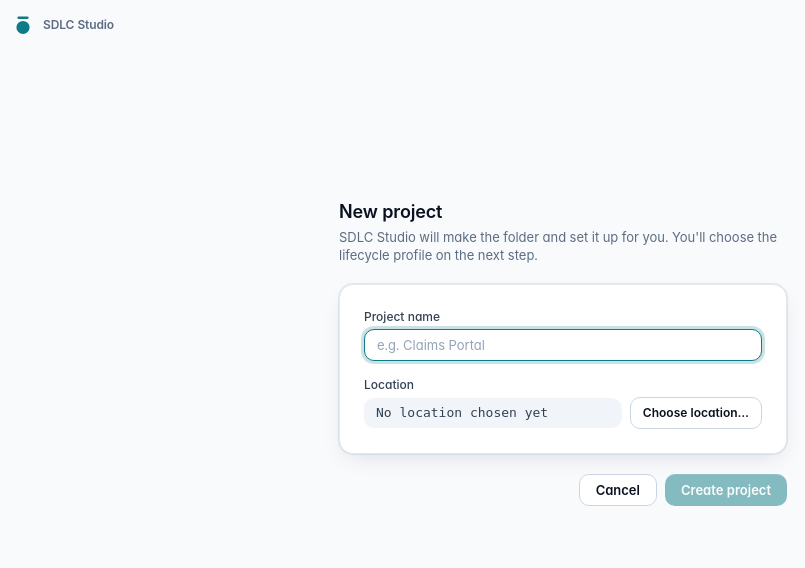
Test: NewProjectScreen › shows the reason a project could not be created and lets the person fix it and try again
The image size is (805, 568).
Click the button "Choose location…" at (696, 413), box [630,397,762,429]
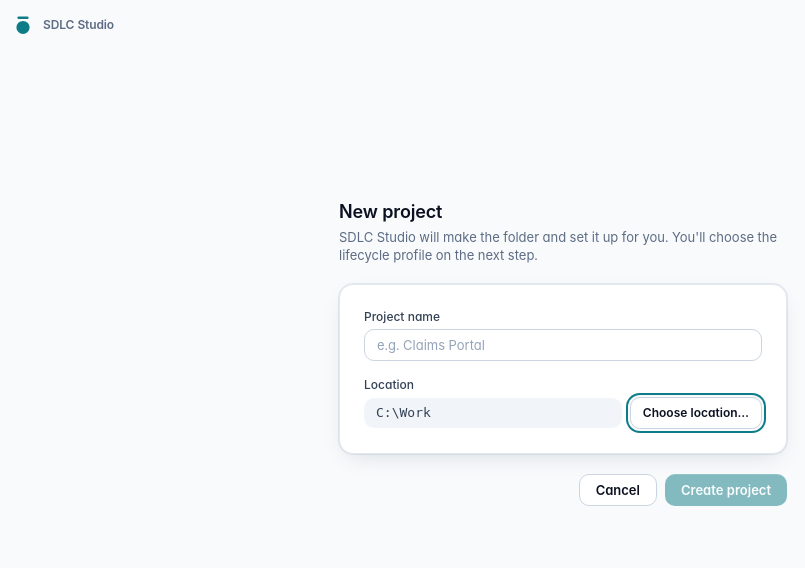
Type "X" into the field labelled "Project name" at (563, 345), box [364,329,762,361]
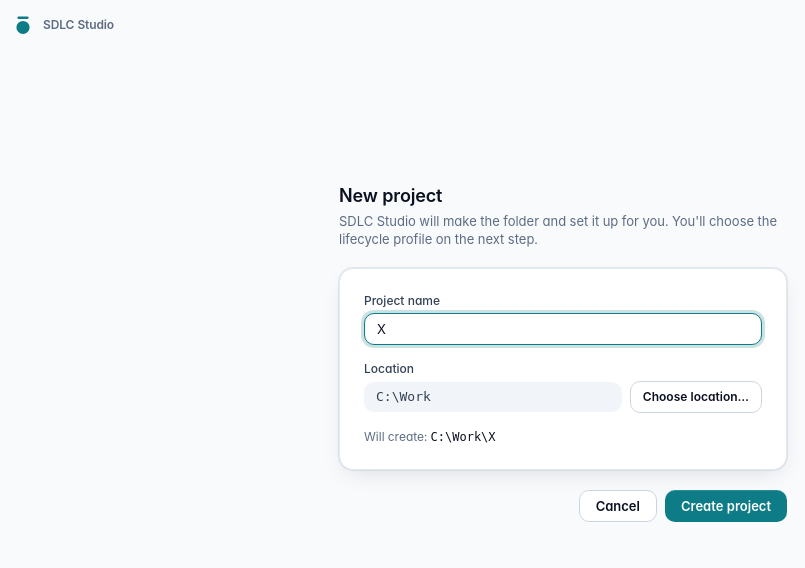
Click the button "Create project" at (726, 506), box [665,490,787,522]
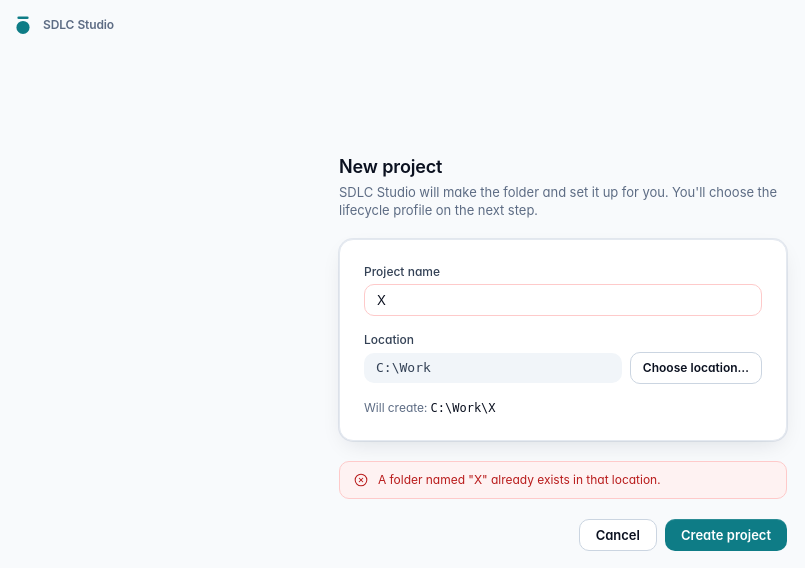
Expected: the button "Create project" is enabled, [665,519,787,551]
Expected: the message shows "already exists", [378,472,660,487]
